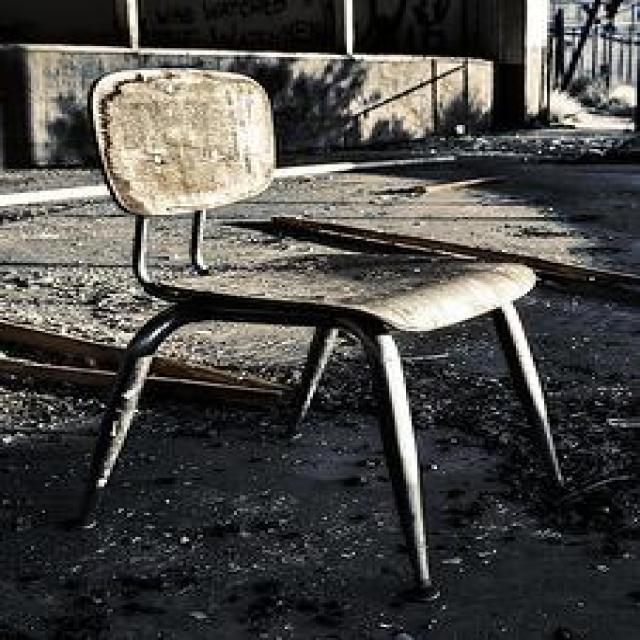chair: (73, 66, 567, 598)
